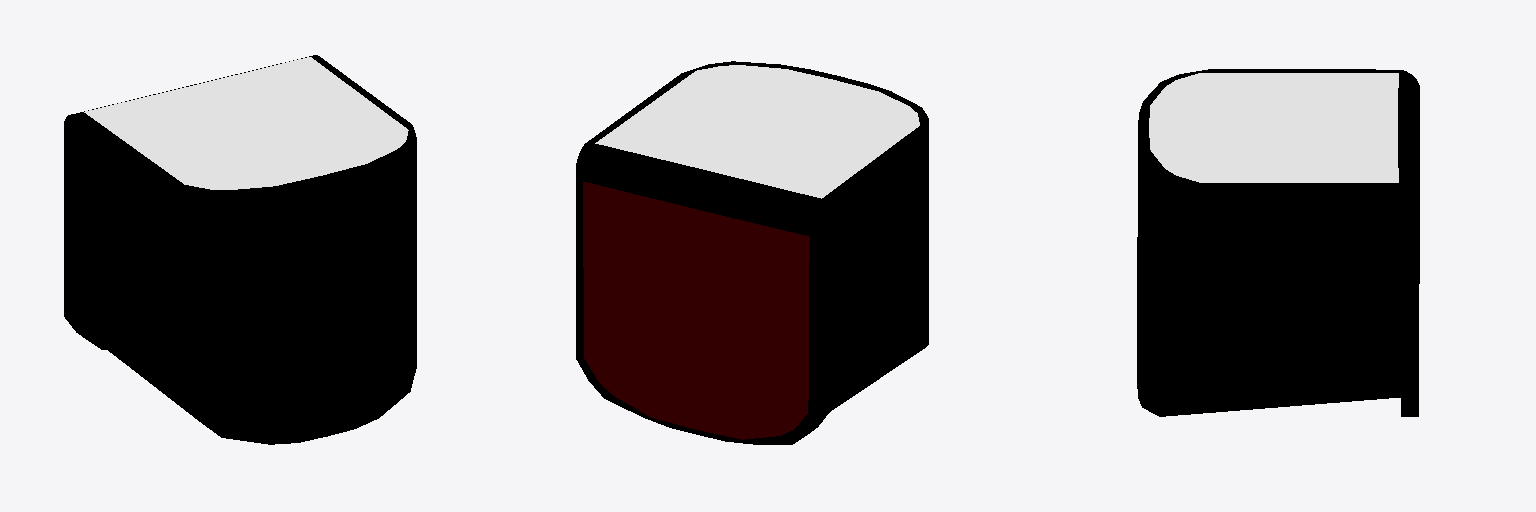
Rendered from edgeWR.obj.
3 renders of one model, left to right at view 1: azimuth 30°, elevation 25°; view 2: azimuth 150°, elevation 25°; view 3: azimuth 270°, elevation 25°, orthographic.
Parts seen in each view (by area): view 1: BasicEdge_Plane.006, EdgeSide1_Plane.008; view 2: EdgeSide2_Plane.009, BasicEdge_Plane.006, EdgeSide1_Plane.008; view 3: BasicEdge_Plane.006, EdgeSide1_Plane.008.
Boxes of the visible parts, x1,y1,x2,y2 form: BasicEdge_Plane.006: [64, 55, 416, 444]; EdgeSide1_Plane.008: [84, 57, 408, 189]; EdgeSide2_Plane.009: [583, 181, 809, 439]; BasicEdge_Plane.006: [576, 61, 928, 444]; EdgeSide1_Plane.008: [595, 65, 919, 198]; BasicEdge_Plane.006: [1137, 69, 1419, 416]; EdgeSide1_Plane.008: [1149, 73, 1398, 182].
Bounding box in the file's own units: 0.18 × 0.1802 × 0.182.